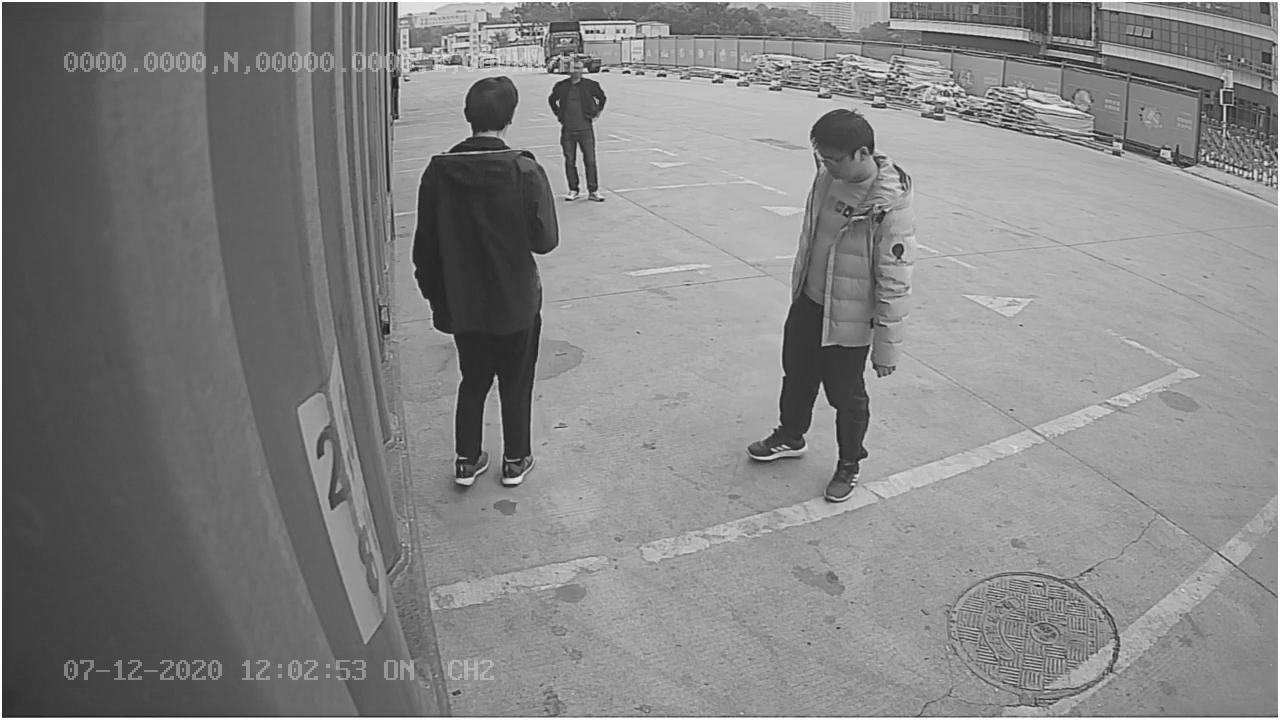person: (746, 106, 923, 505)
